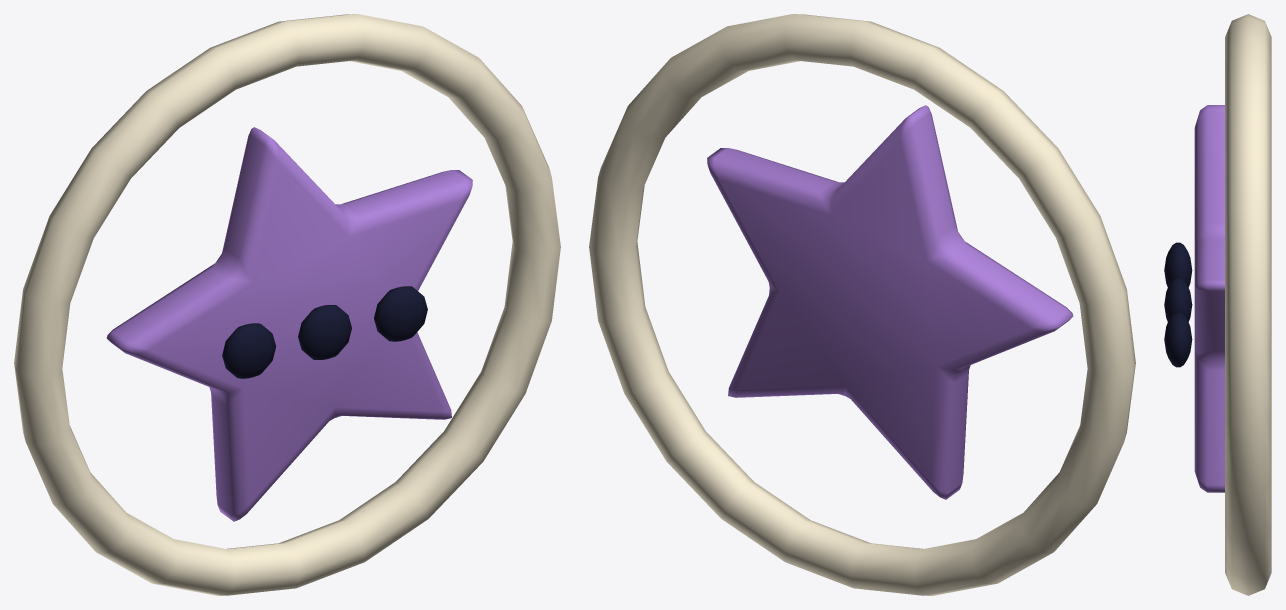
Rendered from r062_dungeon_puzzle_symbols_symbol_03.glb.
The picture shows the model from 3 angles, left to right: view 1: azimuth 30°, elevation 25°; view 2: azimuth 150°, elevation 25°; view 3: azimuth 270°, elevation 25°; orthographic projection. The views are drawn at different scales.
Visible parts, largest first — view 1: r062_dungeon_puzzle_symbols_symbol_03.001; view 2: r062_dungeon_puzzle_symbols_symbol_03.001; view 3: r062_dungeon_puzzle_symbols_symbol_03.001.
Boxes of the visible parts, box(x1,y1,x2,y2) form: r062_dungeon_puzzle_symbols_symbol_03.001: box(14, 14, 560, 595); r062_dungeon_puzzle_symbols_symbol_03.001: box(589, 14, 1135, 595); r062_dungeon_puzzle_symbols_symbol_03.001: box(1164, 14, 1271, 595).
Size of the model in its own units: 2.5 by 2.5 by 0.46.
